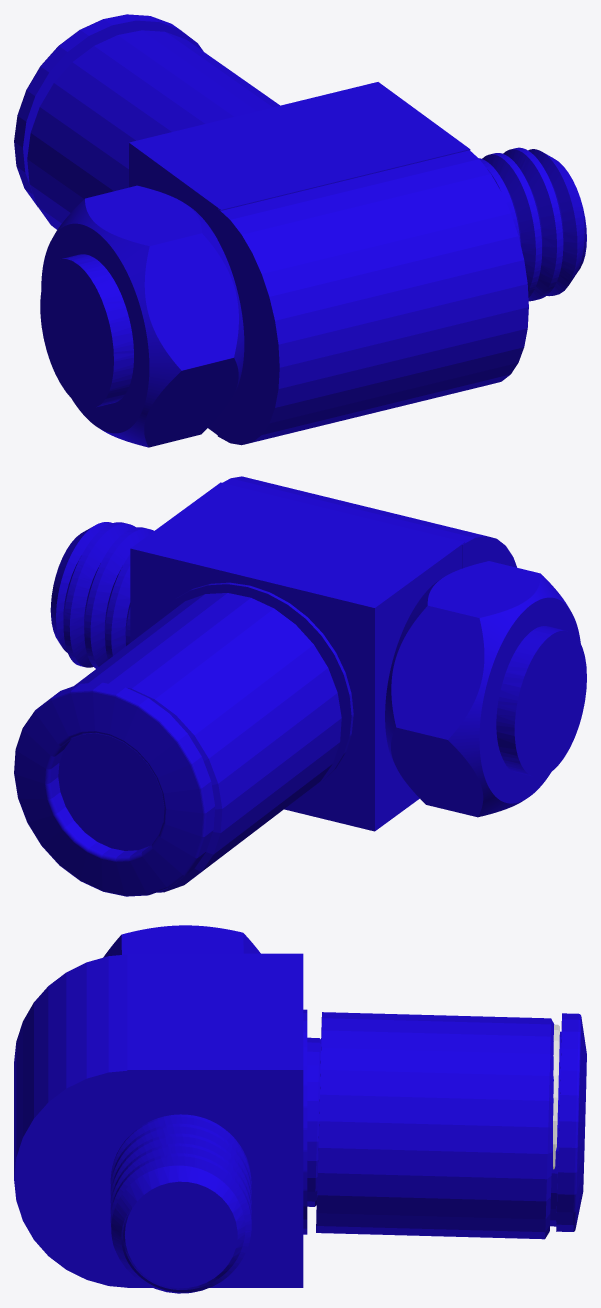
The model's file is One-way flow control valve.fbx.
The picture shows the model from 3 angles, top to bottom: view 1: azimuth 30°, elevation 25°; view 2: azimuth 150°, elevation 25°; view 3: azimuth 270°, elevation 25°; orthographic projection. The views are drawn at different scales.
Parts seen in each view (by area): view 1: Qs-G1-8-10-I-3D-Model-1-En 1639796462.003, Qs-G1-8-10-I-3D-Model-1-En 1639796462.002, Qs-G1-8-10-I-3D-Model-1-En 1639796462; view 2: Qs-G1-8-10-I-3D-Model-1-En 1639796462.003, Qs-G1-8-10-I-3D-Model-1-En 1639796462.002, Qs-G1-8-10-I-3D-Model-1-En 1639796462; view 3: Qs-G1-8-10-I-3D-Model-1-En 1639796462.003, Qs-G1-8-10-I-3D-Model-1-En 1639796462.002, Qs-G1-8-10-I-3D-Model-1-En 1639796462, Qs-G1-8-10-I-3D-Model-1-En 1639796462.001.
Part boxes in pixels (bbox=[...]): Qs-G1-8-10-I-3D-Model-1-En 1639796462.003: bbox=[40, 82, 586, 447]; Qs-G1-8-10-I-3D-Model-1-En 1639796462.002: bbox=[27, 30, 279, 229]; Qs-G1-8-10-I-3D-Model-1-En 1639796462: bbox=[14, 14, 203, 206]; Qs-G1-8-10-I-3D-Model-1-En 1639796462.003: bbox=[50, 476, 586, 831]; Qs-G1-8-10-I-3D-Model-1-En 1639796462.002: bbox=[58, 593, 341, 892]; Qs-G1-8-10-I-3D-Model-1-En 1639796462: bbox=[14, 682, 215, 896]; Qs-G1-8-10-I-3D-Model-1-En 1639796462.003: bbox=[14, 925, 307, 1293]; Qs-G1-8-10-I-3D-Model-1-En 1639796462.002: bbox=[307, 1012, 561, 1239]; Qs-G1-8-10-I-3D-Model-1-En 1639796462: bbox=[556, 1013, 586, 1231]; Qs-G1-8-10-I-3D-Model-1-En 1639796462.001: bbox=[553, 1024, 559, 1169].
Size of the model in its own units: 43.75 by 19.87 by 47.26.
